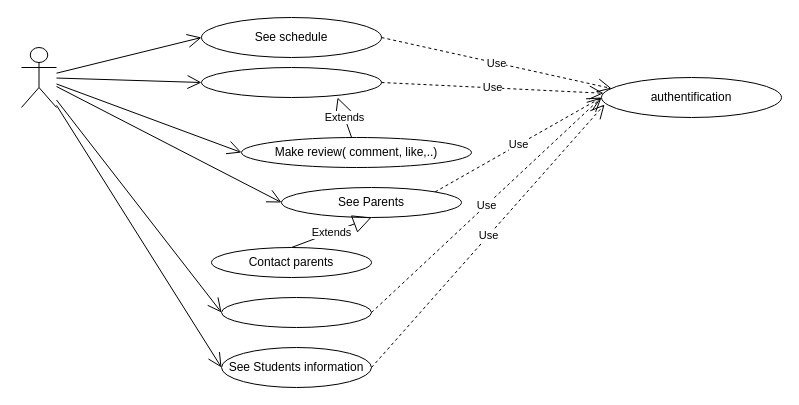
The diagram is 799 pixels wide and 405 high, and some of its shapes have lost their labels. Here are the shapes that lost their labels. From the top down, the centre of each, then its label:
[38,77]: Teacher
[291,82]: See events
[296,312]: Contact Admin
